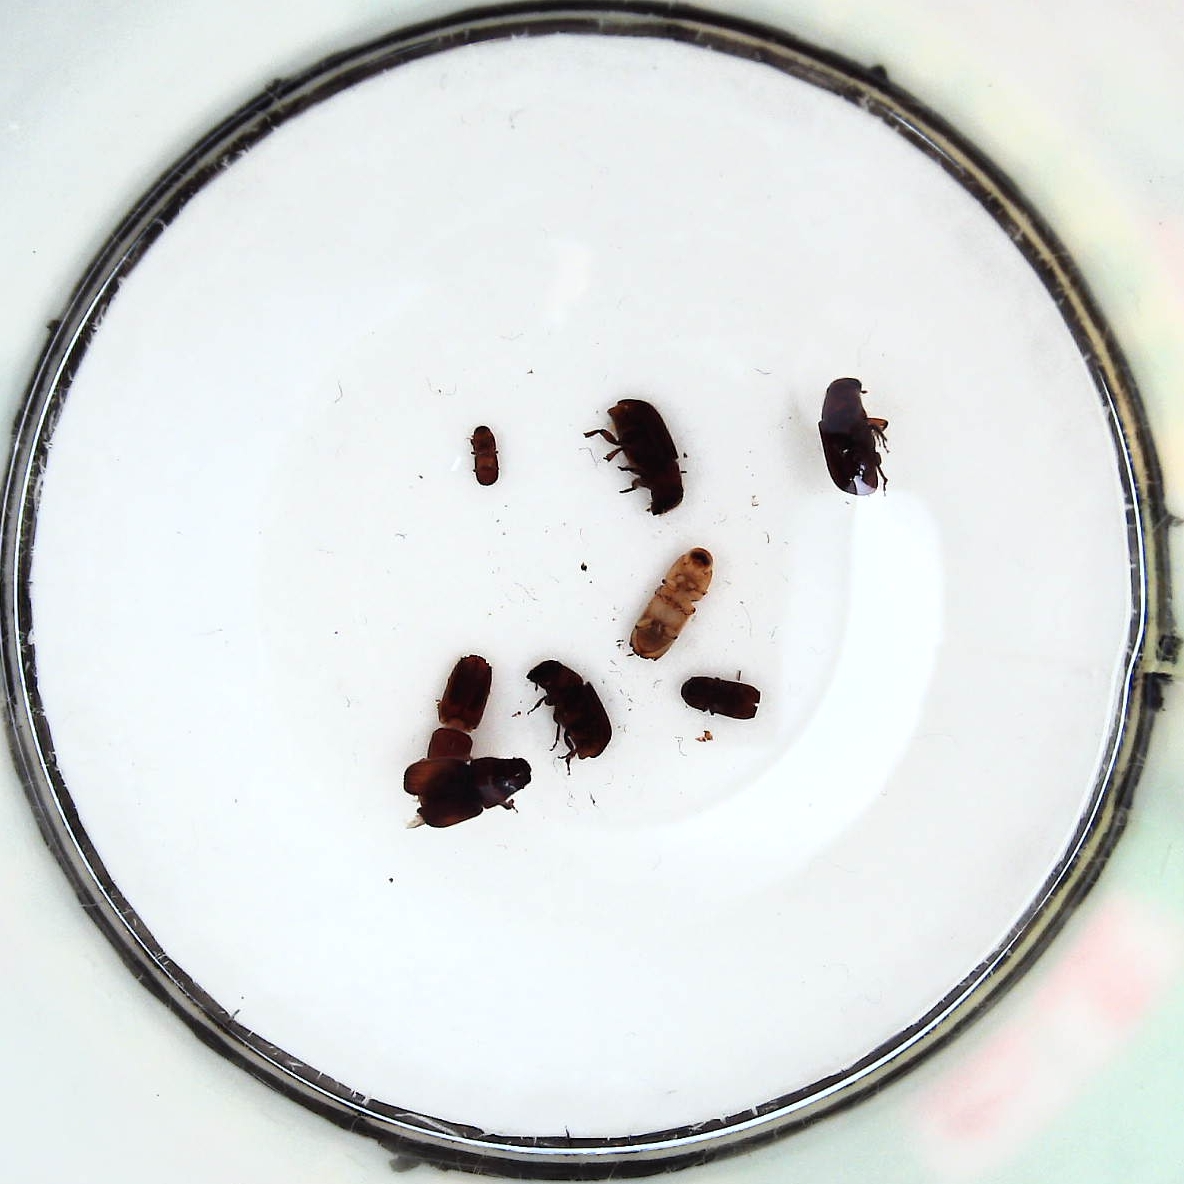Boerner: (627, 548, 717, 659), (423, 655, 496, 757)
Leconte: (583, 397, 687, 518), (820, 373, 895, 502), (529, 658, 613, 765), (406, 756, 528, 827)
Linnaeus: (681, 672, 763, 720)
acuminatus: (469, 423, 499, 485)
